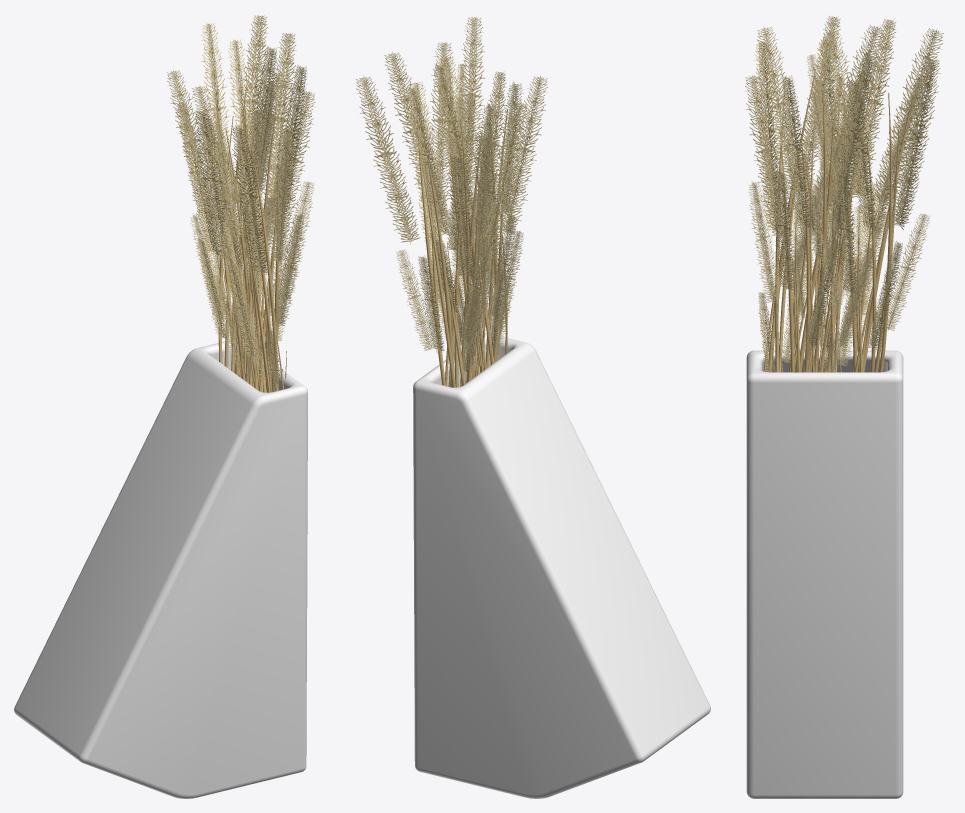
File: vaso ale.glb
3 views of the same model, side by side, from view 1: azimuth 30°, elevation 25°; view 2: azimuth 150°, elevation 25°; view 3: azimuth 270°, elevation 25° (orthographic). The views are drawn at different scales.
Visible parts, largest first — view 1: SER000255, Component#241 (×37), Component#265 (×2); view 2: SER000255, Component#241 (×26), Component#265 (×3); view 3: SER000255, Component#241 (×51), Component#265 (×15).
Boxes of the visible parts, box(x1,y1,x2,y2) form: SER000255: box(14, 340, 307, 798); Component#241 (×37): box(166, 15, 315, 392); Component#265 (×2): box(242, 119, 278, 391); SER000255: box(413, 333, 710, 798); Component#241 (×26): box(355, 17, 547, 355); Component#265 (×3): box(416, 122, 455, 387); SER000255: box(746, 350, 903, 798); Component#241 (×51): box(745, 16, 943, 372); Component#265 (×15): box(768, 75, 913, 372).
Bounding box in the file's own units: 0.1335 × 0.3275 × 0.0809.
Materials: 964 (363 with a texture image).
